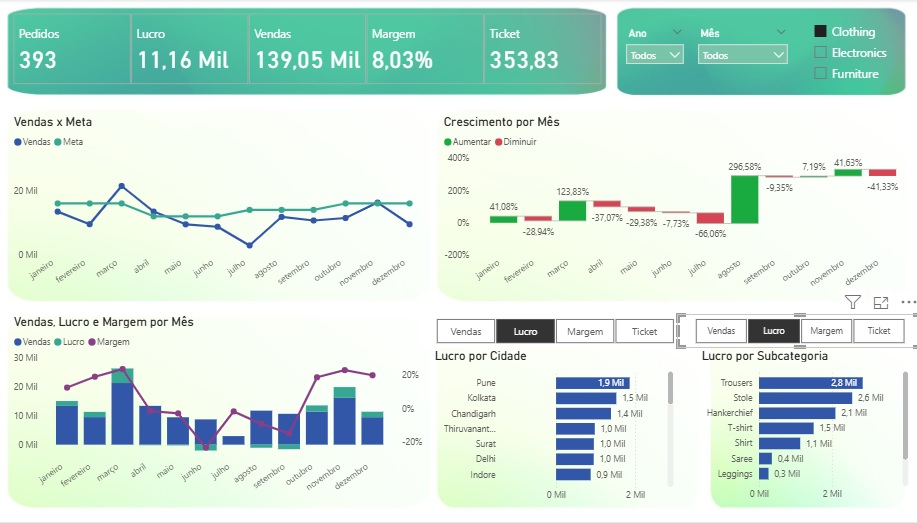

This screenshot's page, from the dashboard's own definition file:
{"tool":"powerbi","page":{"name":"Página 1","canvas":[1280,720],"ordinal":0},"visuals":[{"type":"cardVisual","fields":{"Data":["medidas.Pedidos","medidas.Lucro","medidas.Vendas","medidas.Margem","medidas.Ticket Medio"]},"box":[24.8,15.1,823.1,107.4],"z":0},{"type":"slicer","fields":{"Values":["calendario.Ano"]},"box":[863,34.4,99.1,86.7],"z":1000},{"type":"slicer","fields":{"Values":["calendario.Nome Mes"]},"box":[962.1,34.4,143.1,158.3],"z":2000},{"type":"slicer","fields":{"Values":["metas.category"]},"box":[1119,24.8,129.4,106],"z":3000},{"type":"lineChart","title":"Vendas x Meta","fields":{"Category":["calendario.Data.Variation.Hierarquia de datas.Ano","calendario.Data.Variation.Hierarquia de datas.Mês"],"Y":["medidas.Vendas","Sum(metas.target)"]},"box":[24.8,158.3,572.6,260.1],"z":4000},{"type":"lineStackedColumnComboChart","fields":{"Category":["calendario.Data.Variation.Hierarquia de datas.Ano","calendario.Data.Variation.Hierarquia de datas.Mês"],"Y":["medidas.Vendas","medidas.Lucro"],"Y2":["medidas.Margem"]},"box":[24.8,433.5,572.6,265.6],"z":5000},{"type":"waterfallChart","fields":{"Category":["calendario.Ano Mes.Variation.Hierarquia de datas.Mês"],"Y":["medidas.Crescimento"]},"box":[616.6,158.3,652.4,260.1],"z":6000},{"type":"clusteredBarChart","fields":{"Y":["medidas.Vendas"],"Category":["clientes.city"]},"box":[604.2,480.3,338.6,220.2],"z":7000},{"type":"slicer","fields":{"Values":["Selecao Cidade.Selecao Cidade"]},"box":[586.3,433.5,375.7,46.8],"z":8000},{"type":"clusteredBarChart","fields":{"Y":["medidas.Vendas"],"Category":["vendas.subcategory"]},"box":[971.7,480.3,294.5,218.8],"z":9000},{"type":"slicer","fields":{"Values":["Selecao Subcategoria.Selecao Subcategoria"]},"box":[942.8,433.5,337.2,46.8],"z":10000}]}

Visuals, with their boxes in screenshot pixels (x1, y1, x2, y2), scaled from the page's 1280x720 canvas onto the 917x523 screenshot:
cardVisual - medidas.Pedidos x medidas.Lucro: (x1=18, y1=11, x2=607, y2=89)
slicer - calendario.Ano: (x1=618, y1=25, x2=689, y2=88)
slicer - calendario.Nome Mes: (x1=689, y1=25, x2=792, y2=140)
slicer - metas.category: (x1=802, y1=18, x2=894, y2=95)
"Vendas x Meta" lineChart: (x1=18, y1=115, x2=428, y2=304)
lineStackedColumnComboChart - calendario.Data.Variation.Hierarquia de datas.Ano x calendario.Data.Variation.Hierarquia de datas.Mês: (x1=18, y1=315, x2=428, y2=508)
waterfallChart - calendario.Ano Mes.Variation.Hierarquia de datas.Mês x medidas.Crescimento: (x1=442, y1=115, x2=909, y2=304)
clusteredBarChart - medidas.Vendas x clientes.city: (x1=433, y1=349, x2=675, y2=509)
slicer - Selecao Cidade.Selecao Cidade: (x1=420, y1=315, x2=689, y2=349)
clusteredBarChart - medidas.Vendas x vendas.subcategory: (x1=696, y1=349, x2=907, y2=508)
slicer - Selecao Subcategoria.Selecao Subcategoria: (x1=675, y1=315, x2=916, y2=349)
